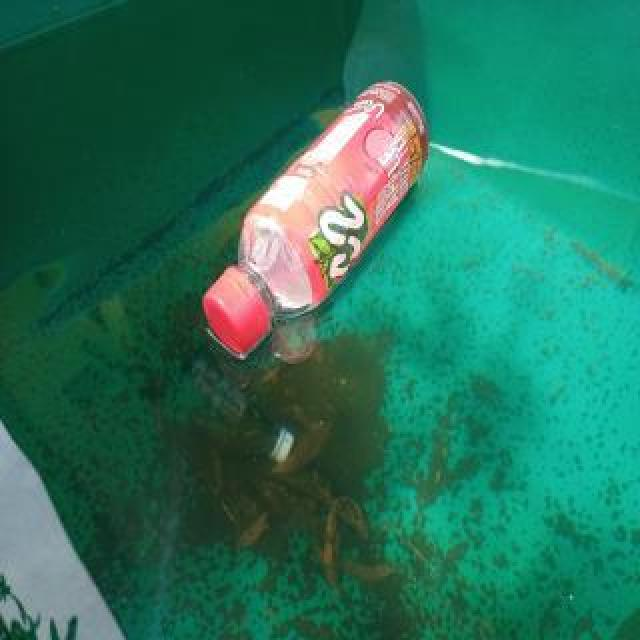bottle: (202, 77, 430, 359)
